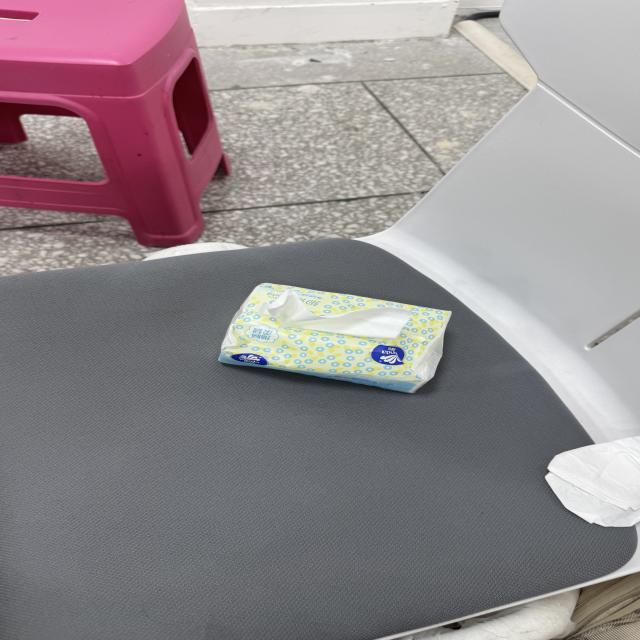tissue: (220, 284, 450, 392), (401, 590, 580, 639), (546, 438, 639, 526)
